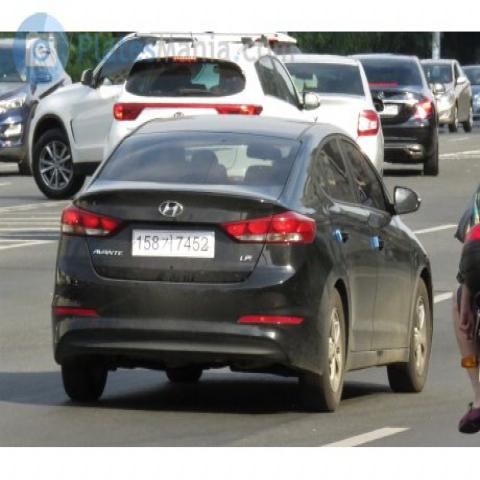LP: (122, 222, 227, 269)
